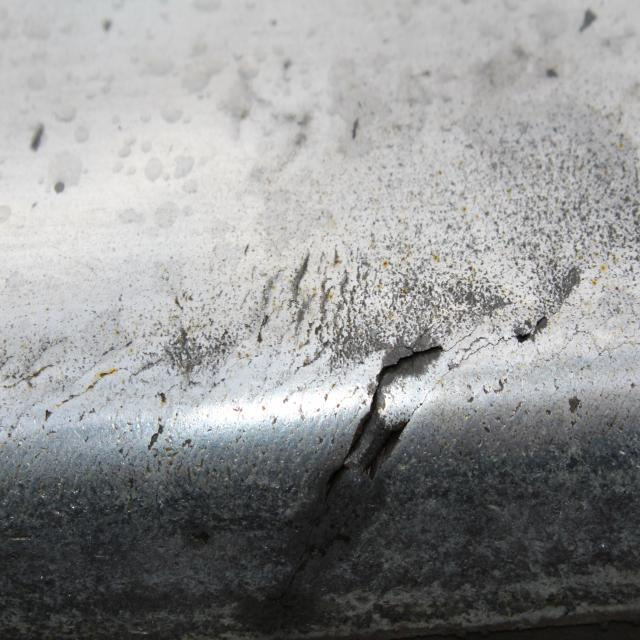broken_rail_medium: (314, 341, 446, 508), (289, 245, 385, 367), (167, 317, 202, 387), (145, 382, 170, 455), (512, 310, 550, 352), (577, 2, 597, 38), (28, 117, 46, 154), (542, 63, 564, 85), (566, 393, 584, 417), (52, 176, 68, 194)
